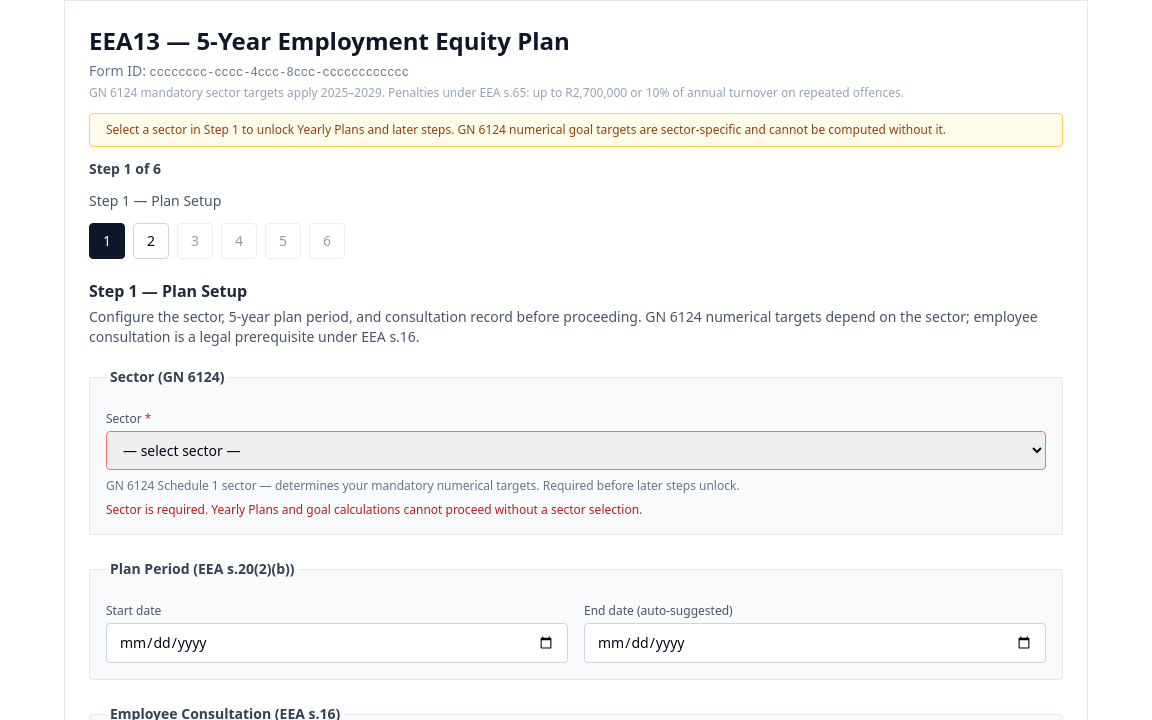
EEA13Form — plan period › shows exact schema refine message for a 4-year span
In the date field with test id "eea13-period-start": (337, 643) [106,623,568,663], type "2025-01-01"
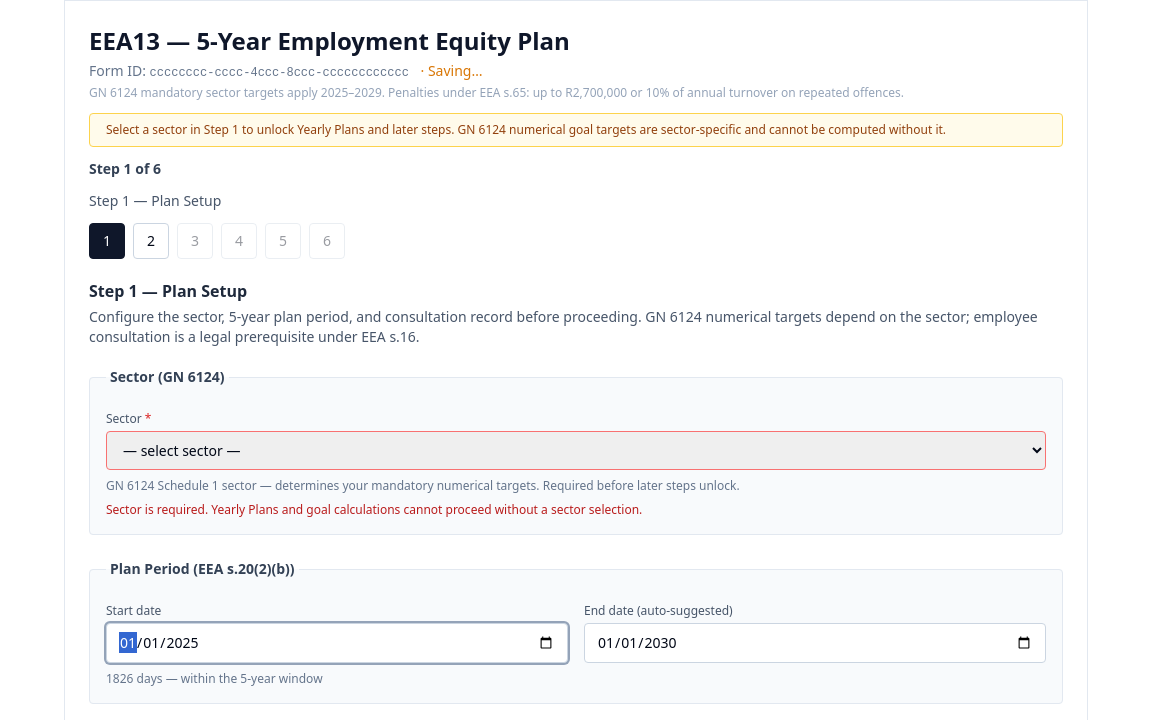
# Clear auto-suggested end date and set a 4-year span
In the date field with test id "eea13-period-end": (815, 643) [584,623,1046,663], type "2029-01-01"
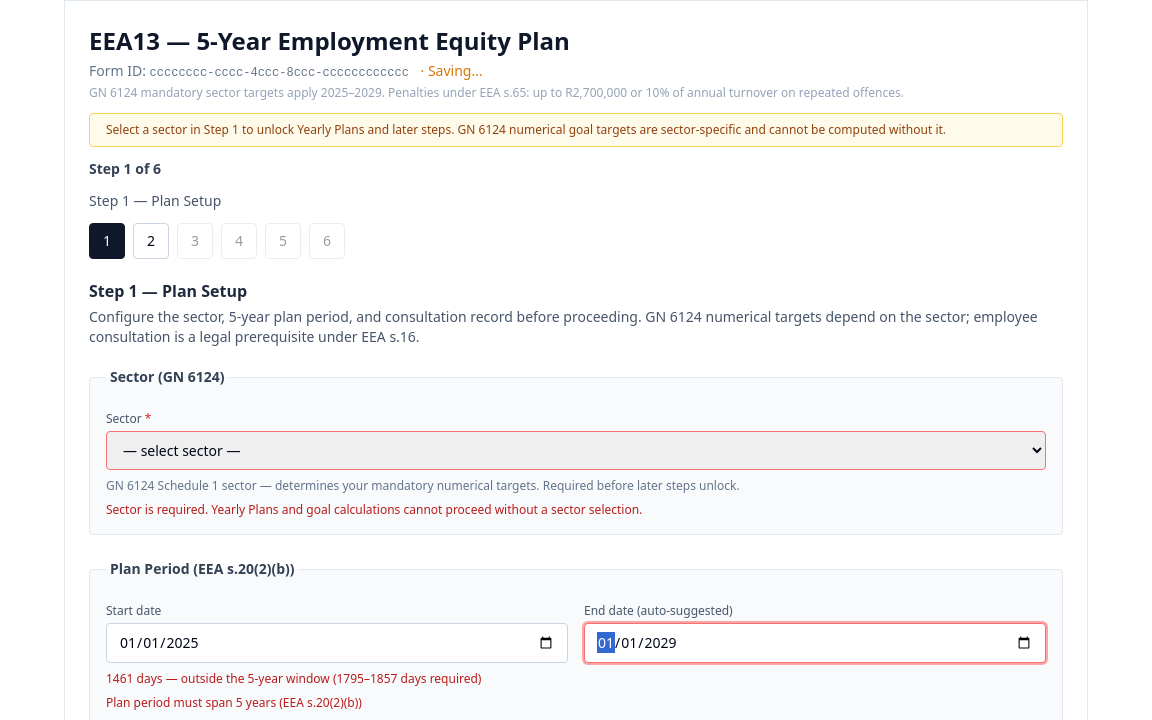
Expected: the message with test id "eea13-period-error" reads "Plan period must span 5 years (EEA s.20(2)(b))", [106,694,362,711]
